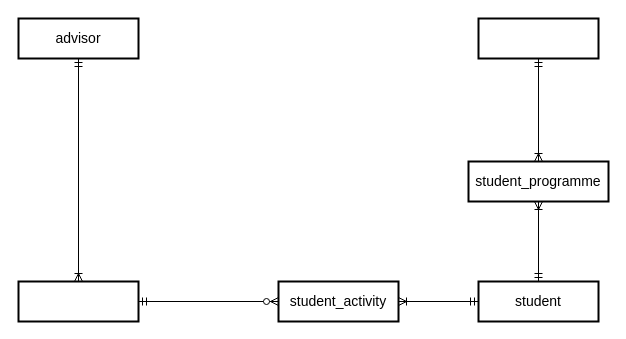
This 626x339 diagram has some shape labels left out. The shapes that lost their labels are listed below. From the top down, each one's centre as x and y in pixels, then its label:
At (x=538, y=38): "programmes".
At (x=78, y=301): "activity".
